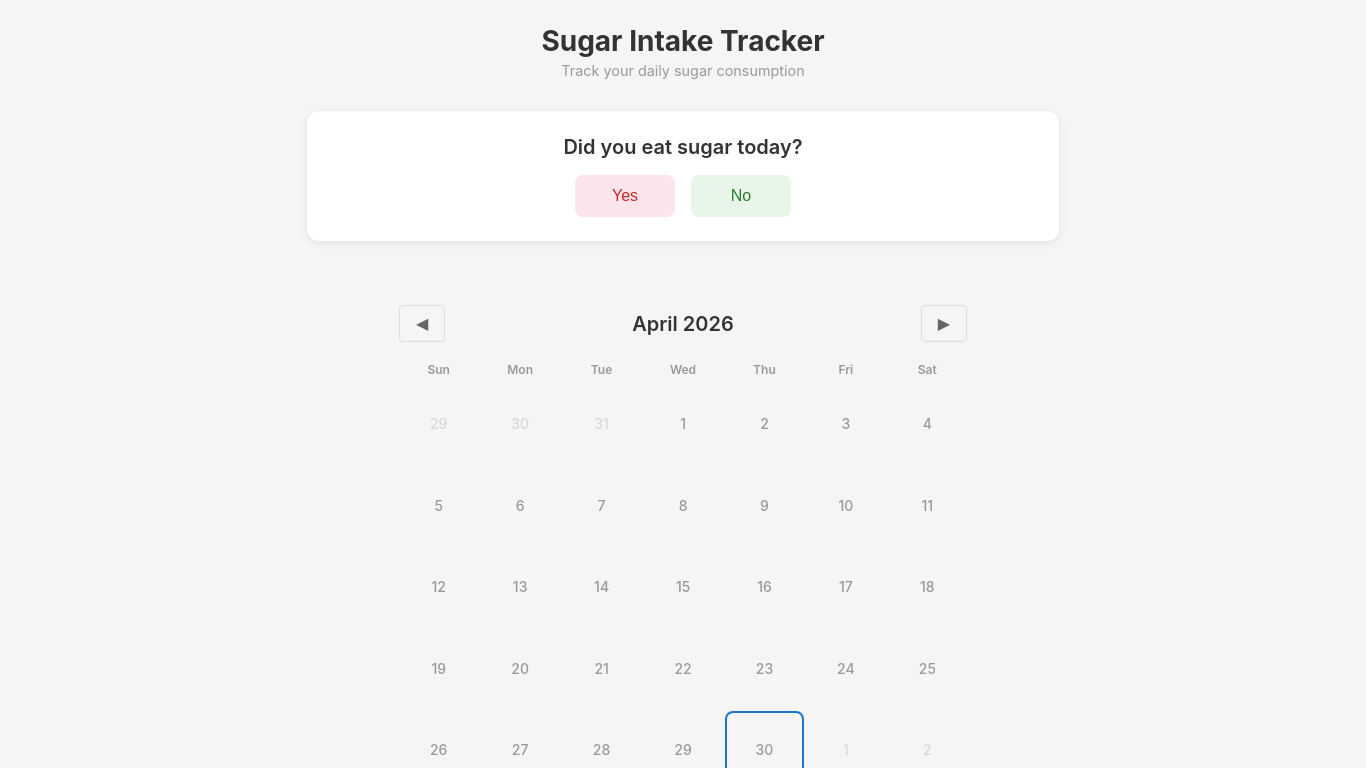
Test: App › closes UpdateDialog when cancel is clicked
The width and height of the screenshot is (1366, 768).
Click the button with test id "day-cell-15". click: (683, 588)
box: top-left (643, 548), bottom-right (723, 627)
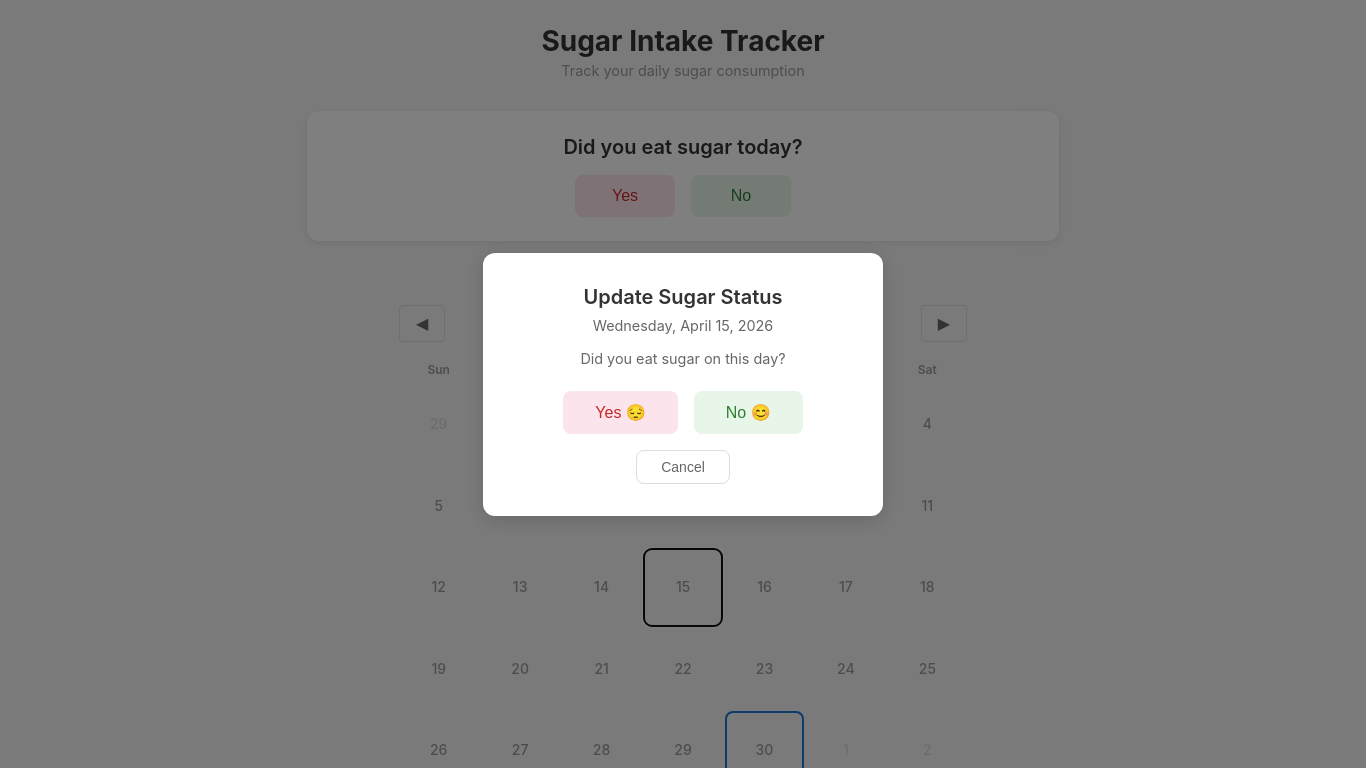
Now the element with test id "update-dialog" is shown, box top-left (483, 252), bottom-right (883, 516)
Click the button with aria-label "Close dialog". click: (683, 466)
box: top-left (636, 450), bottom-right (730, 484)
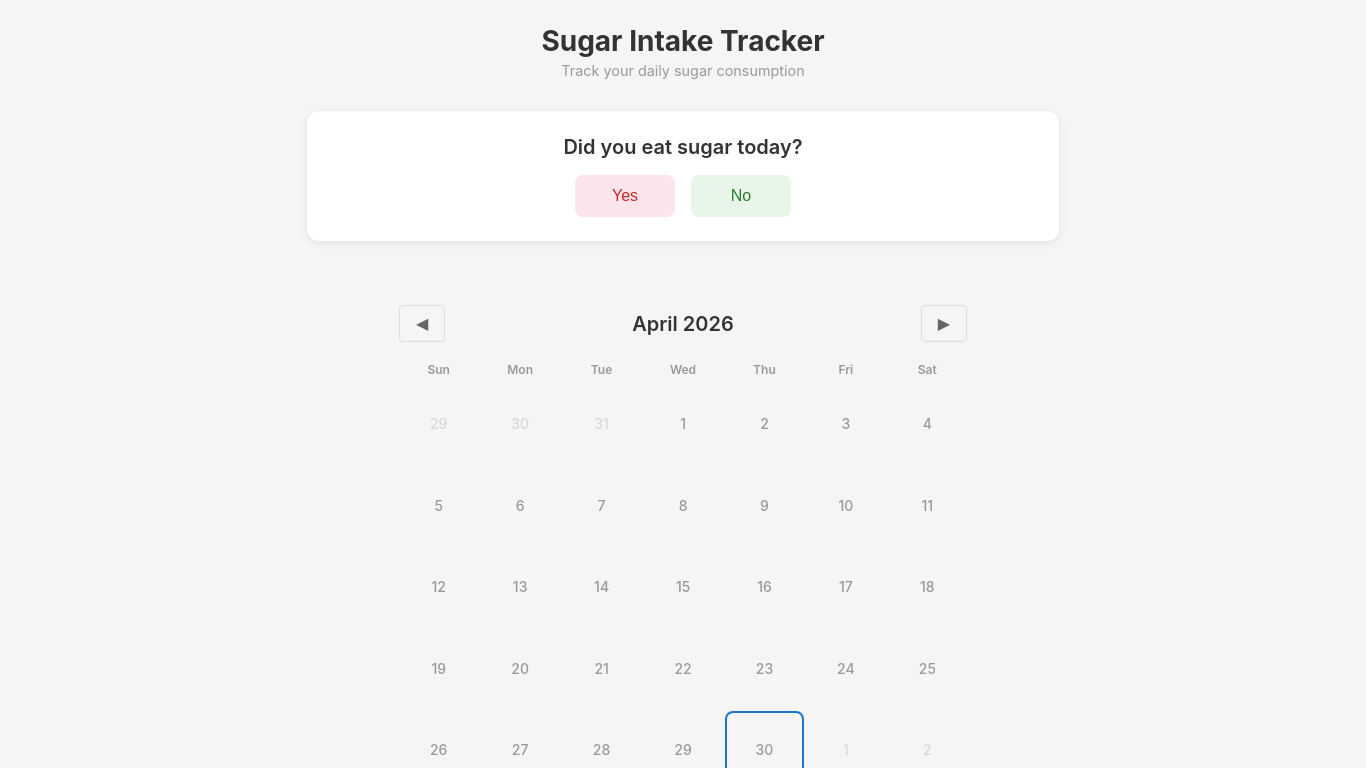
Now the element with test id "update-dialog" is gone
